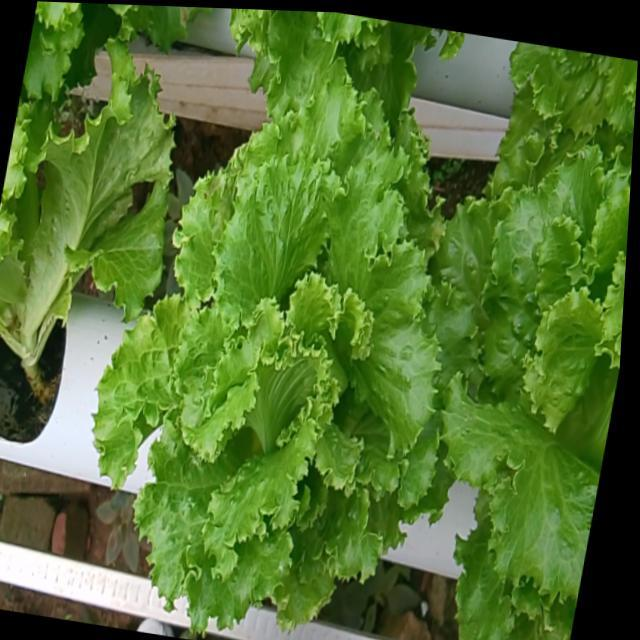Mature: (94, 89, 444, 633), (430, 151, 630, 611)
